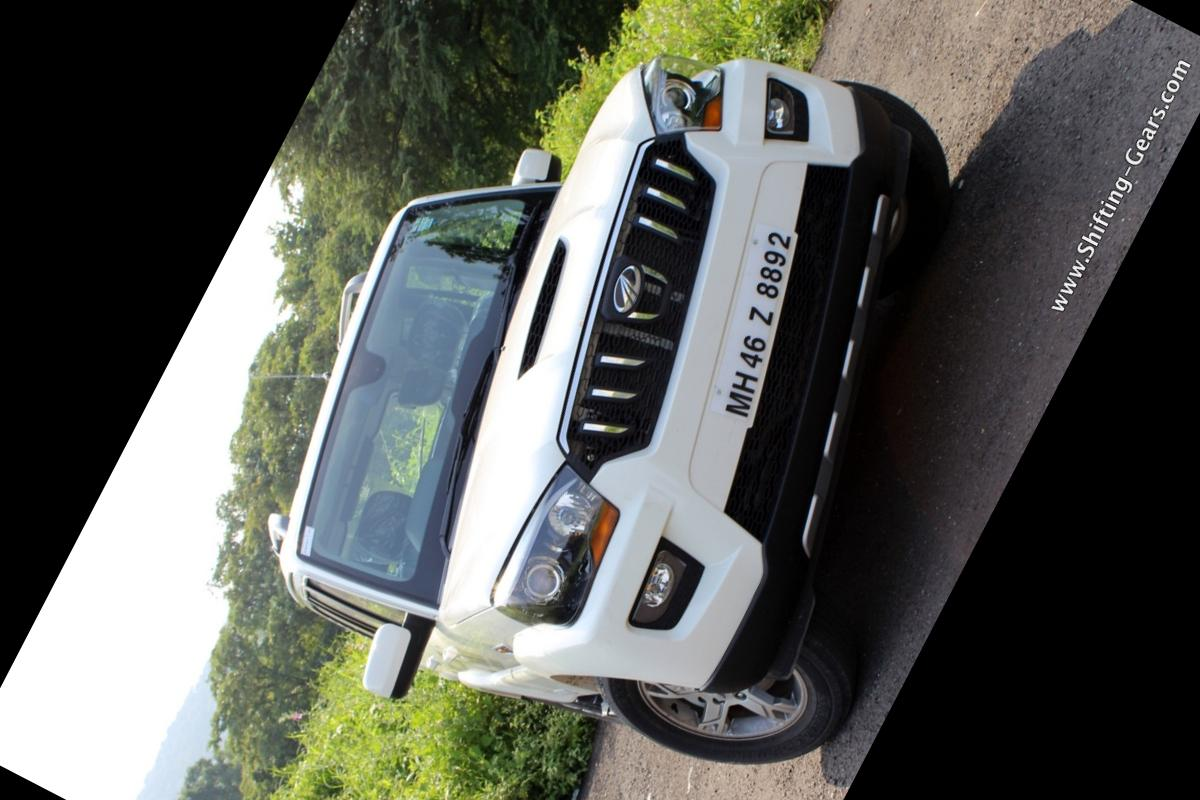plate: (654, 174, 847, 463)
